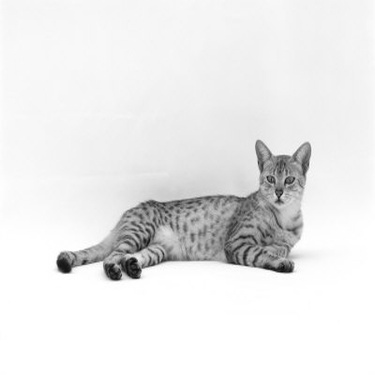cat: (37, 133, 327, 280)
